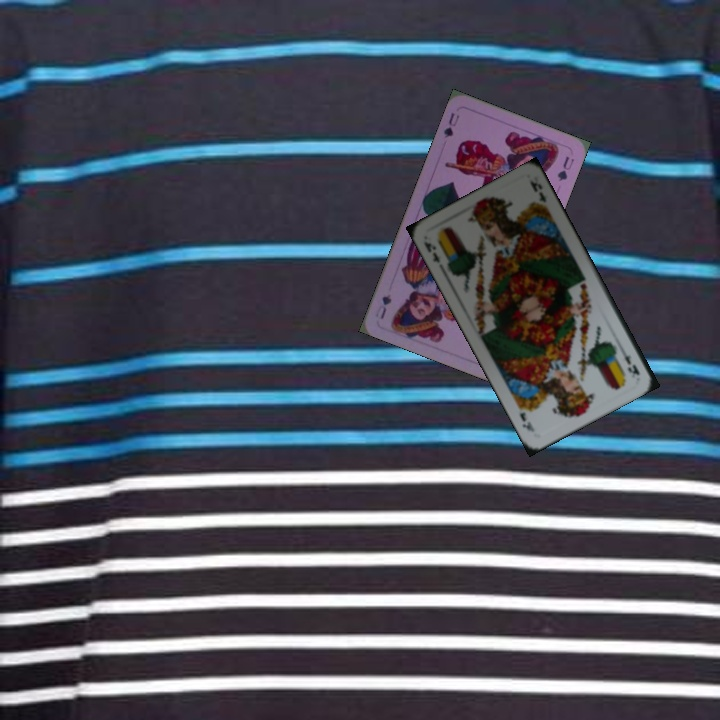EK: (616, 342, 642, 381), (420, 237, 443, 266)
GU: (439, 109, 462, 140)
